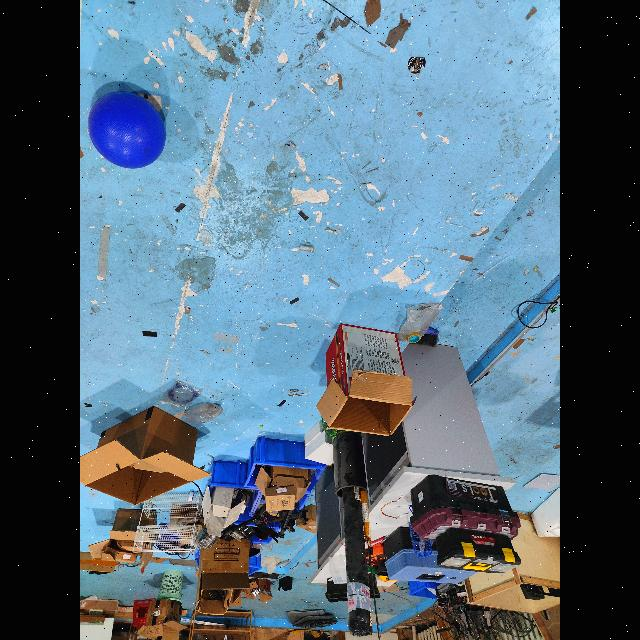B: (89, 91, 167, 169)
